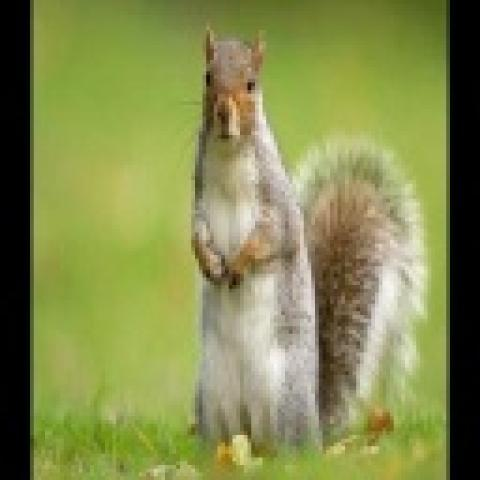small_animal: (191, 22, 424, 461)
